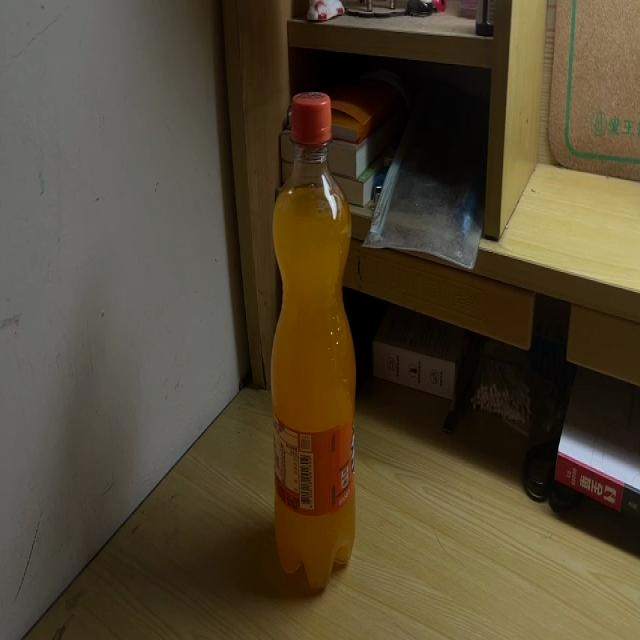Fanta: (272, 91, 358, 592)
